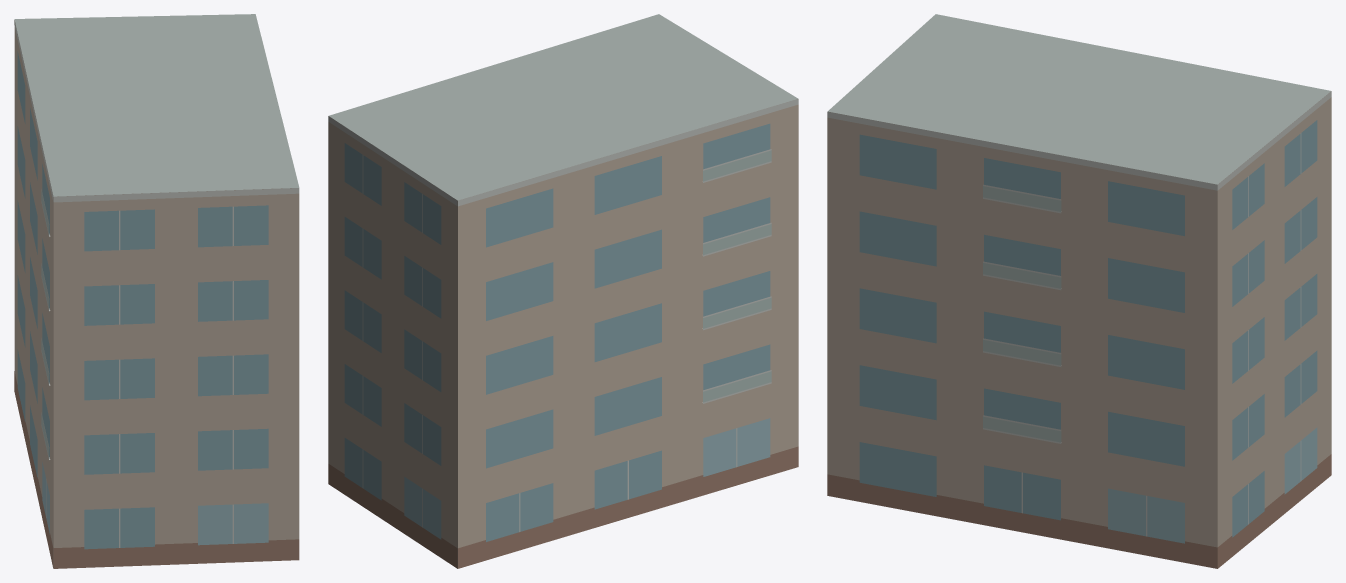
File: survey-upis-32938041.glb
3 renders of one model, left to right at view 1: azimuth 30°, elevation 25°; view 2: azimuth 150°, elevation 25°; view 3: azimuth 270°, elevation 25°, orthographic. The views are drawn at different scales.
Visible parts, largest first — view 1: survey-upis-32938041.tmp; view 2: survey-upis-32938041.tmp; view 3: survey-upis-32938041.tmp.
Part boxes in pixels (<box>): survey-upis-32938041.tmp: <box>14,14,299,568</box>; survey-upis-32938041.tmp: <box>328,14,798,568</box>; survey-upis-32938041.tmp: <box>827,14,1331,568</box>.
Bounding box in the file's own units: 14.67 × 15.4 × 18.32.
